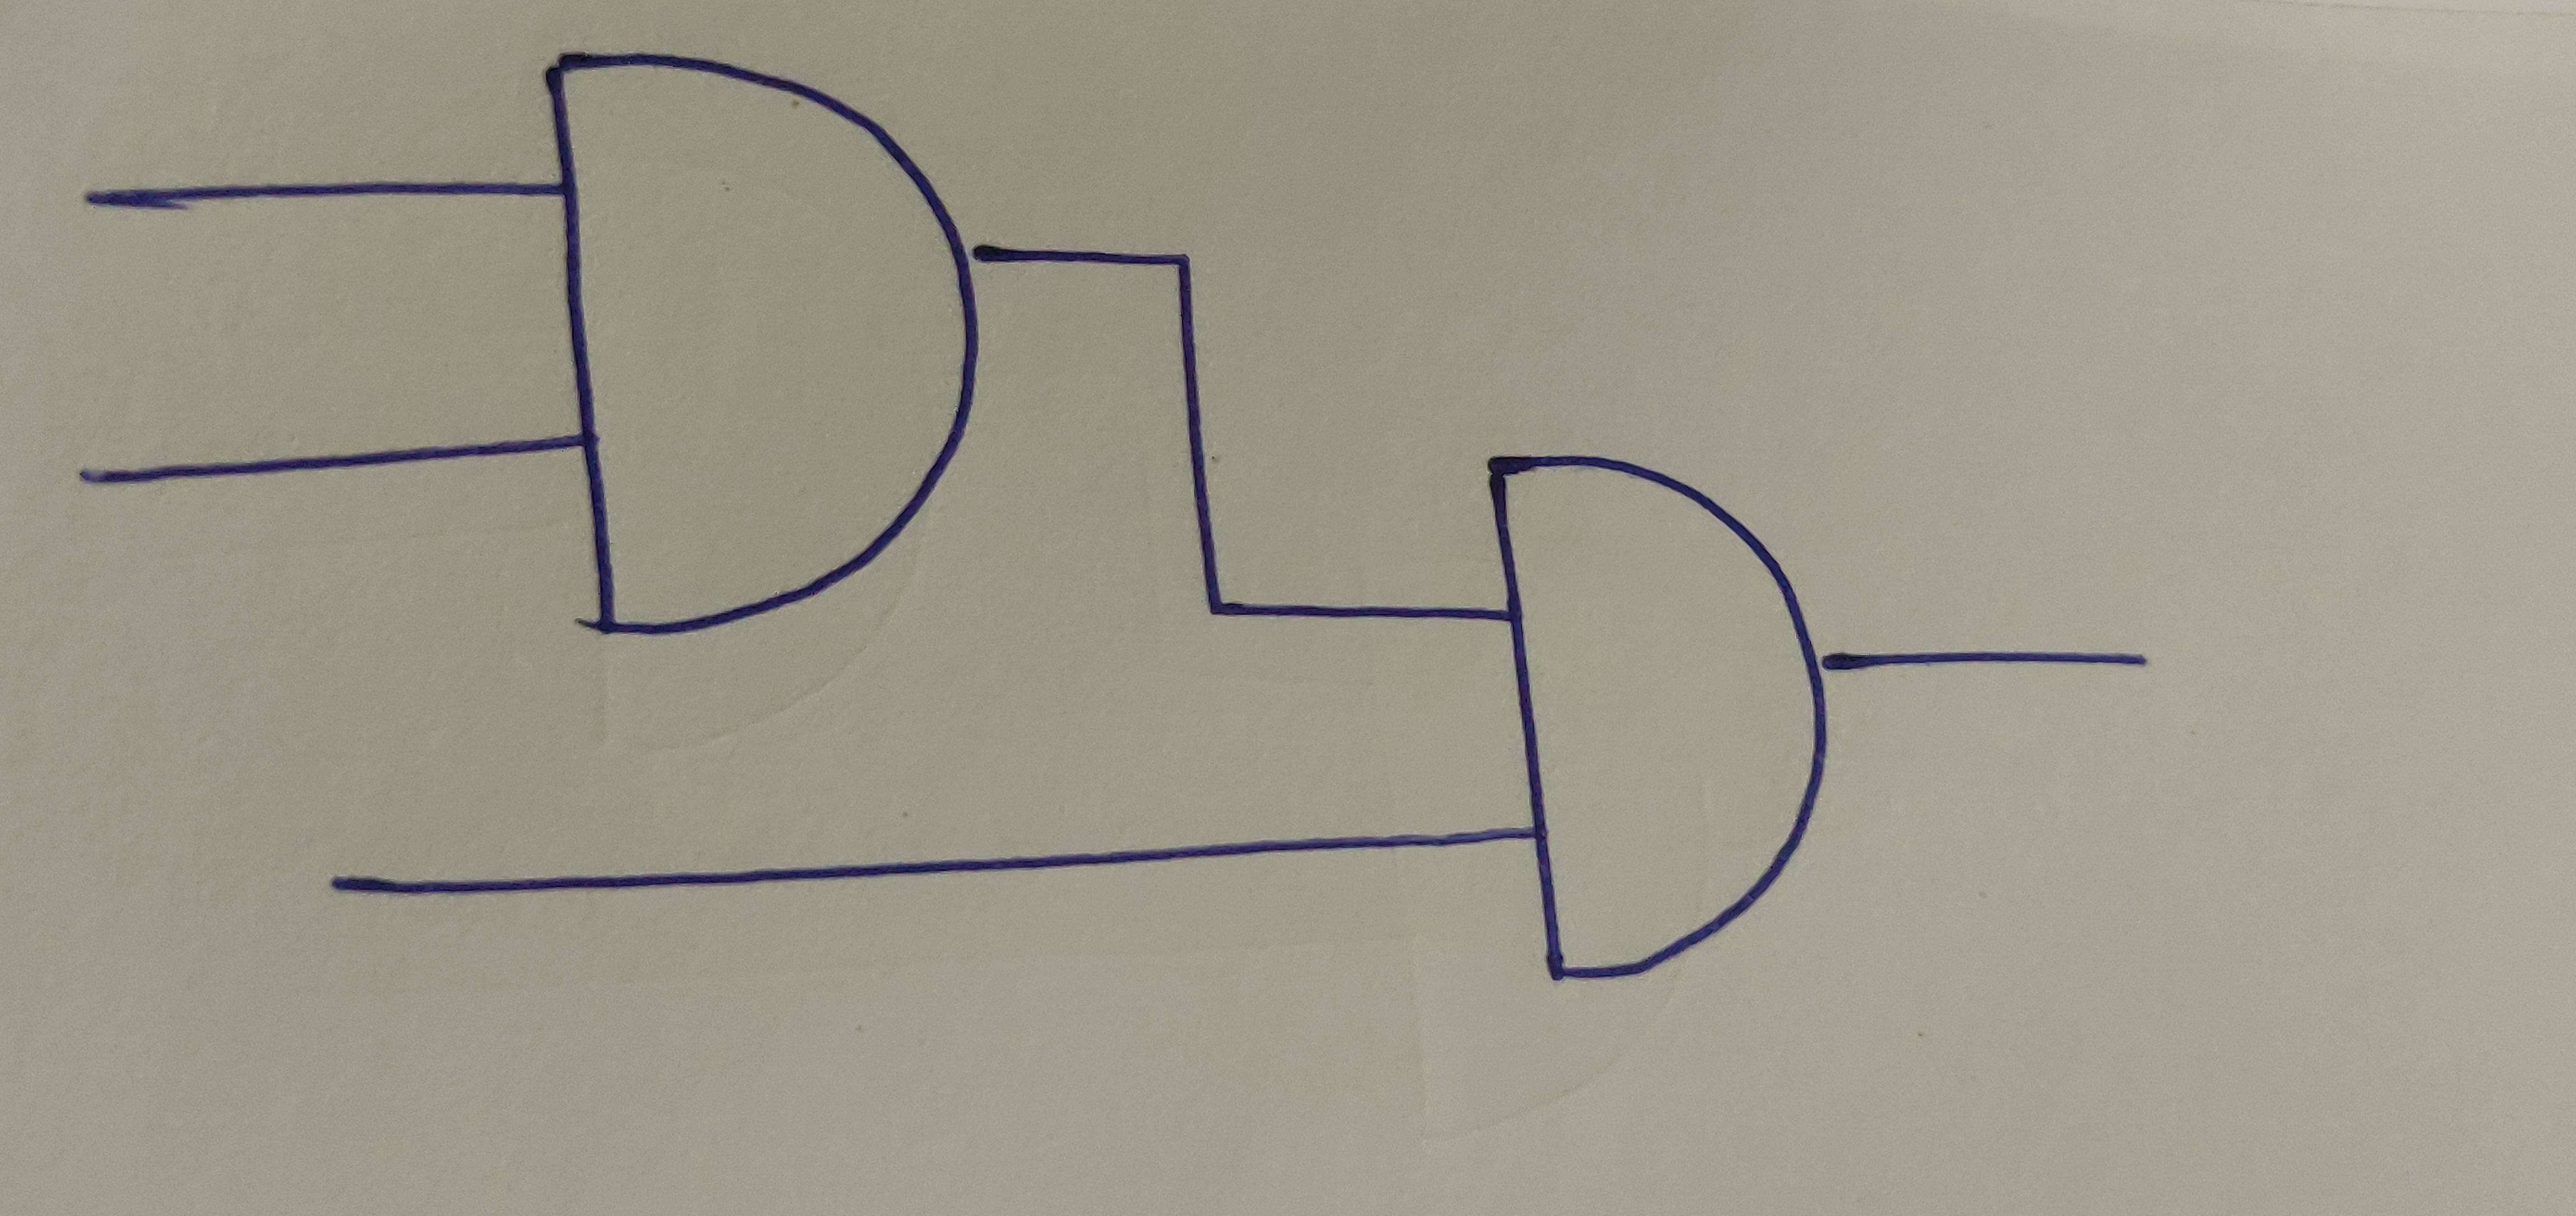and: (540, 58, 982, 631), (1482, 449, 1833, 983)
